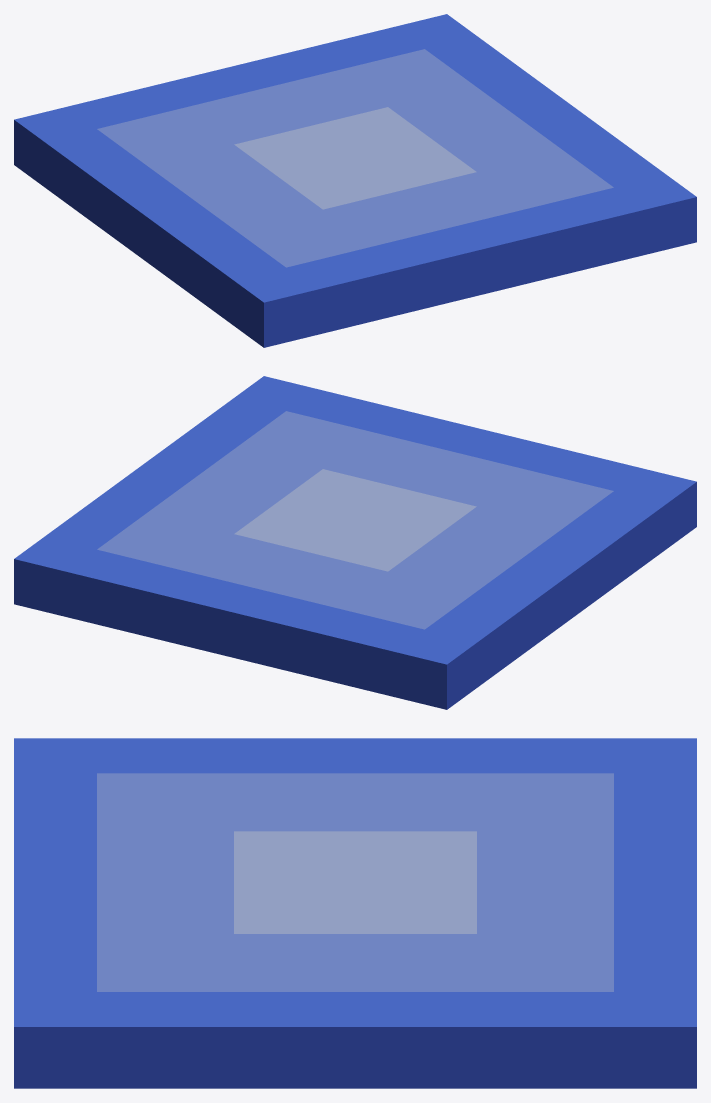
File: TileBlue.fbx
3 views of the same model, one above another, from view 1: azimuth 30°, elevation 25°; view 2: azimuth 150°, elevation 25°; view 3: azimuth 270°, elevation 25° (orthographic). The views are drawn at different scales.
Visible parts, largest first — view 1: Cube; view 2: Cube; view 3: Cube.
Part boxes in pixels (<box>): Cube: <box>14,14,696,347</box>; Cube: <box>14,376,696,709</box>; Cube: <box>14,738,696,1088</box>.
Size of the model in its own units: 100 by 10 by 100.
